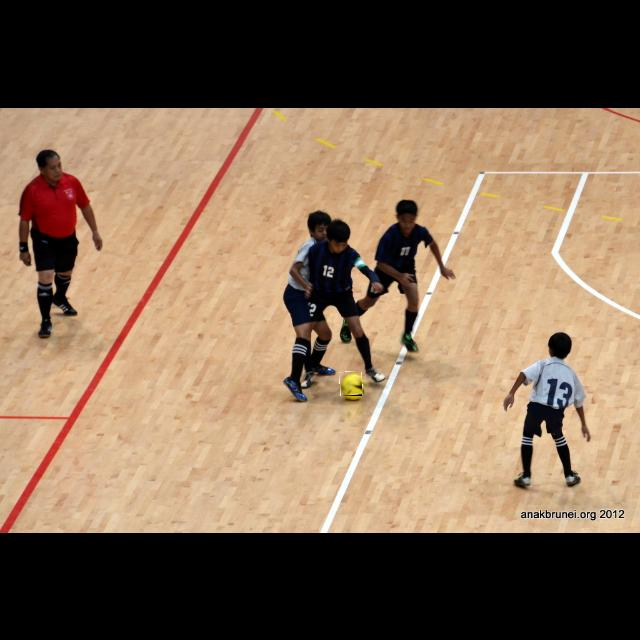Football: (340, 372, 362, 396)
